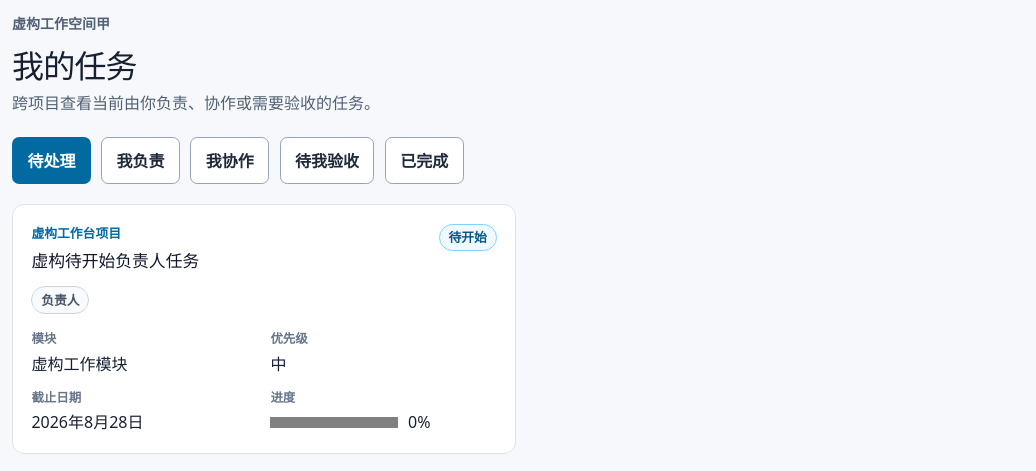
Test: 我的任务页面 › 当前筛选没有结果时显示明确空状态
This screenshot has width=1036, height=471.
Expected: the link "虚构待开始负责人任务" is shown, top-left (31, 249), bottom-right (199, 272)
Click the button "已完成": (424, 161) top-left (385, 137), bottom-right (464, 184)
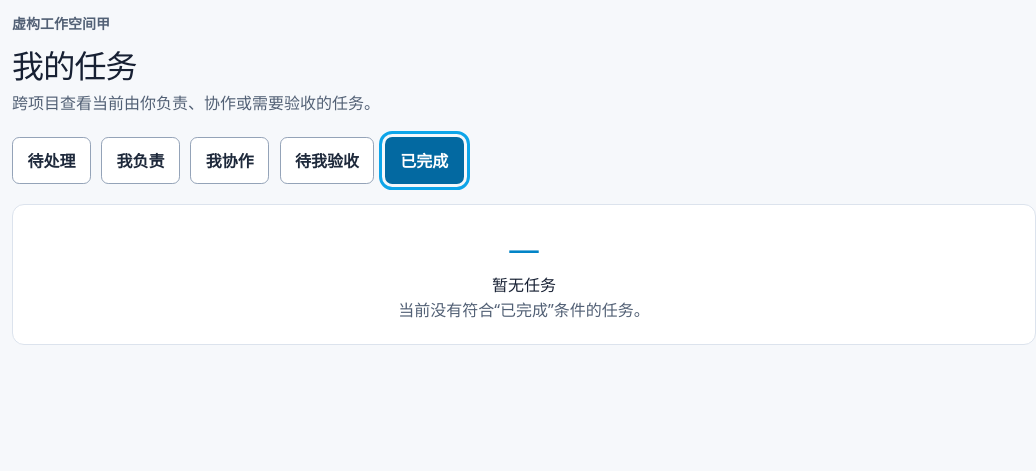
Expected: the heading "暂无任务" is shown, top-left (492, 274), bottom-right (556, 296)
Expected: the text "当前没有符合“已完成”条件的任务。" is shown, top-left (398, 299), bottom-right (650, 321)
